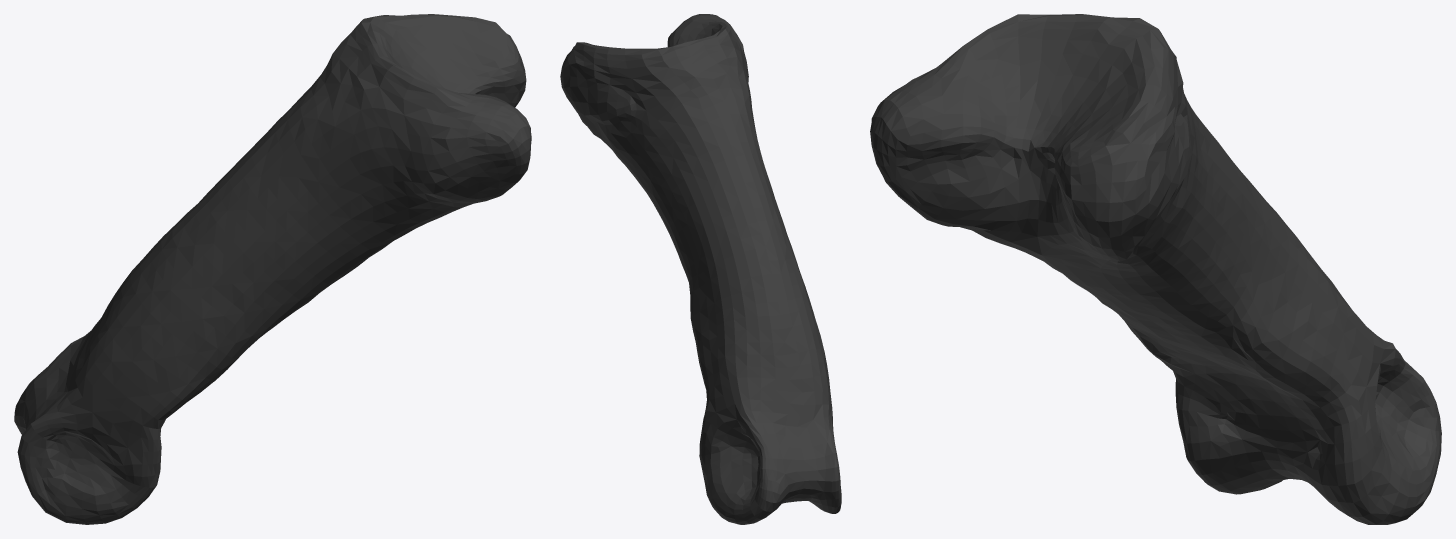
The model's file is proximal_phalanx_II_L.glb.
3 views of the same model, side by side, from view 1: azimuth 30°, elevation 25°; view 2: azimuth 150°, elevation 25°; view 3: azimuth 270°, elevation 25° (orthographic). The views are drawn at different scales.
Parts seen in each view (by area): view 1: proximal_phalanx_II_L; view 2: proximal_phalanx_II_L; view 3: proximal_phalanx_II_L.
Part boxes in pixels (x1,y1,x2,y2): proximal_phalanx_II_L: [14, 14, 531, 524]; proximal_phalanx_II_L: [560, 14, 841, 524]; proximal_phalanx_II_L: [870, 14, 1441, 524].
Bounding box in the file's own units: 0.0279 × 0.0301 × 0.0252.
Materials: 1 (1 with a texture image).
